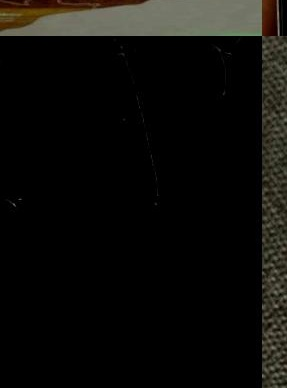physical_damage: (160, 344, 188, 388), (0, 192, 37, 214), (144, 175, 168, 208), (142, 294, 158, 335), (128, 94, 148, 123), (107, 36, 132, 59), (211, 82, 237, 103), (201, 39, 231, 57), (6, 218, 27, 242), (140, 251, 153, 288), (123, 61, 139, 91), (141, 123, 155, 149), (145, 151, 160, 174), (0, 264, 14, 287), (3, 247, 20, 260), (193, 214, 208, 227), (154, 209, 159, 247), (0, 105, 16, 116), (213, 227, 232, 236), (181, 204, 193, 216), (116, 118, 128, 129), (241, 50, 259, 57)
